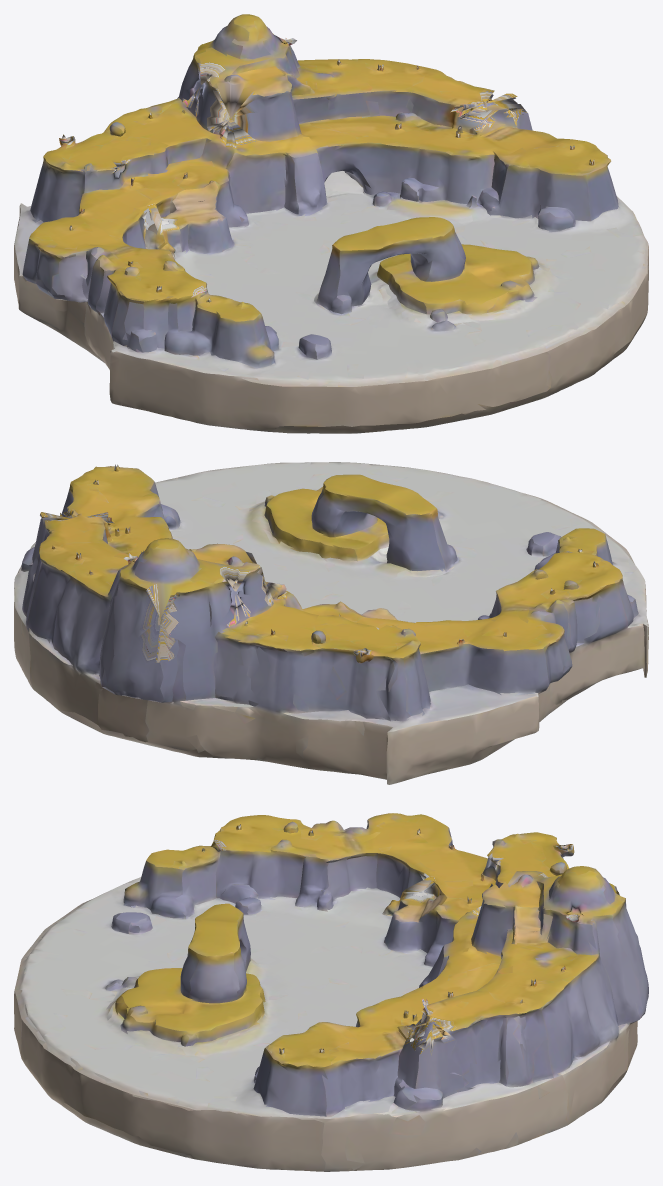
Rendered from altarIsland.glb.
3 renders of one model, top to bottom at view 1: azimuth 30°, elevation 25°; view 2: azimuth 150°, elevation 25°; view 3: azimuth 270°, elevation 25°, orthographic.
Visible parts, largest first — view 1: geometry_0; view 2: geometry_0; view 3: geometry_0.
Part boxes in pixels (box(x1,y1,x2,y2)): geometry_0: box(14, 14, 648, 433); geometry_0: box(14, 462, 648, 784); geometry_0: box(14, 813, 648, 1171).
Size of the model in its own units: 0.3 by 0.0981 by 0.3004.
Materials: 1 (1 with a texture image).
